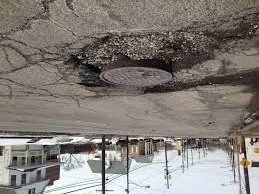pothole: (70, 32, 215, 72), (177, 70, 259, 100), (216, 10, 257, 51), (147, 82, 181, 95), (80, 70, 103, 89)
